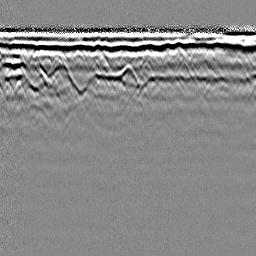cavity: (118, 61, 141, 87)
